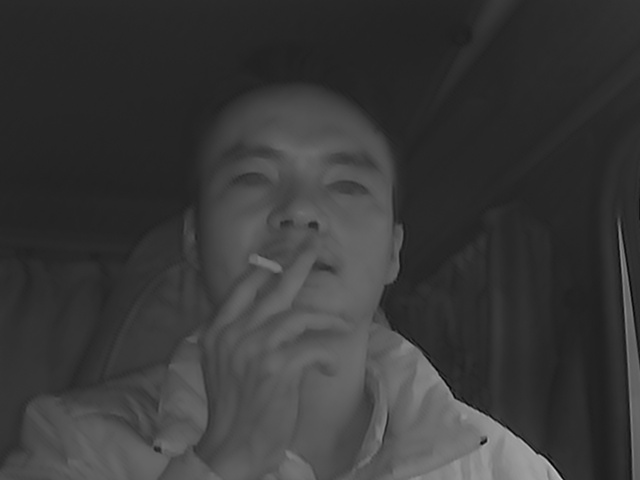hand: (219, 245, 354, 394)
